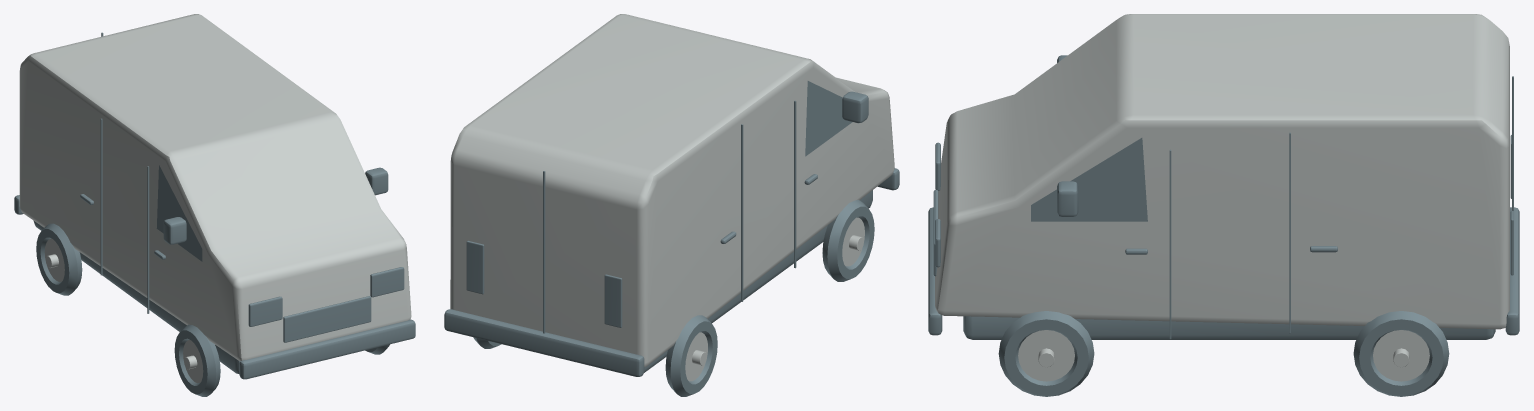
Rendered from van.glb.
3 renders of one model, left to right at view 1: azimuth 30°, elevation 25°; view 2: azimuth 150°, elevation 25°; view 3: azimuth 270°, elevation 25°, orthographic. The views are drawn at different scales.
Parts seen in each view (by area): view 1: body, bumper, front_grille, van_wheel_tire.001, van_wheel_tire, chassis, side_cab_window, headlight.001, headlight, mirror, mirror.001, van_wheel_wheel_face (+3 smaller); view 2: body, bumper.001, van_wheel_tire.001, van_wheel_tire, side_cab_window, chassis, rear_lamp, rear_lamp.001, mirror, van_wheel_wheel_face, van_wheel_wheel_face.001, sliding_door_seam (+2 smaller); view 3: body, chassis, side_cab_window.001, van_wheel_tire.003, van_wheel_tire.002, van_wheel_wheel_face.002, van_wheel_wheel_face.003, bumper.001, bumper, mirror.001, side_door_seam.001.
Part boxes in pixels (x1,y1,x2,y2): body: [19, 14, 411, 360]; bumper: [239, 319, 415, 379]; front_grille: [283, 296, 371, 342]; van_wheel_tire.001: [174, 324, 220, 396]; van_wheel_tire: [36, 223, 82, 295]; chassis: [33, 220, 239, 373]; side_cab_window: [156, 165, 202, 261]; headlight.001: [370, 267, 404, 297]; headlight: [248, 296, 282, 326]; mirror: [163, 217, 186, 244]; mirror.001: [365, 167, 388, 195]; van_wheel_wheel_face: [44, 238, 64, 281]; body: [450, 14, 894, 366]; bumper.001: [444, 309, 644, 376]; van_wheel_tire.001: [822, 200, 874, 281]; van_wheel_tire: [665, 315, 717, 396]; side_cab_window: [805, 81, 852, 156]; chassis: [644, 190, 872, 372]; rear_lamp: [604, 274, 622, 327]; rear_lamp.001: [466, 240, 484, 294]; mirror: [842, 91, 868, 123]; van_wheel_wheel_face: [685, 332, 707, 381]; van_wheel_wheel_face.001: [842, 217, 864, 266]; sliding_door_seam: [741, 124, 743, 301]; body: [935, 14, 1509, 329]; chassis: [963, 316, 1495, 339]; side_cab_window.001: [1031, 138, 1147, 221]; van_wheel_tire.003: [998, 311, 1094, 396]; van_wheel_tire.002: [1353, 311, 1449, 396]; van_wheel_wheel_face.002: [1373, 330, 1429, 381]; van_wheel_wheel_face.003: [1018, 330, 1074, 381]; bumper.001: [1505, 207, 1519, 335]; bumper: [928, 207, 942, 335]; mirror.001: [1057, 181, 1078, 216]; side_door_seam.001: [1169, 149, 1171, 339].
Bounding box in the file's own units: 2.31 × 2.18 × 4.2.
